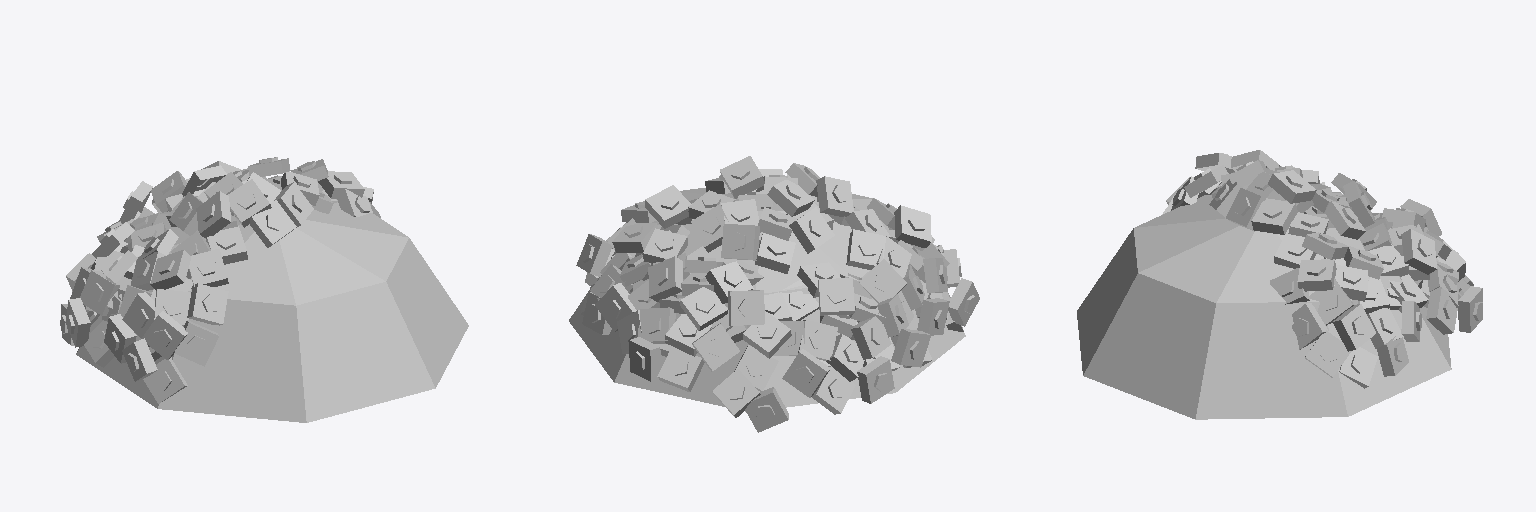
File: legoBig.obj
The picture shows the model from 3 angles: view 1: azimuth 30°, elevation 25°; view 2: azimuth 150°, elevation 25°; view 3: azimuth 270°, elevation 25°; orthographic projection.
Bounding box in the file's own units: 1.59 × 0.8241 × 1.64.